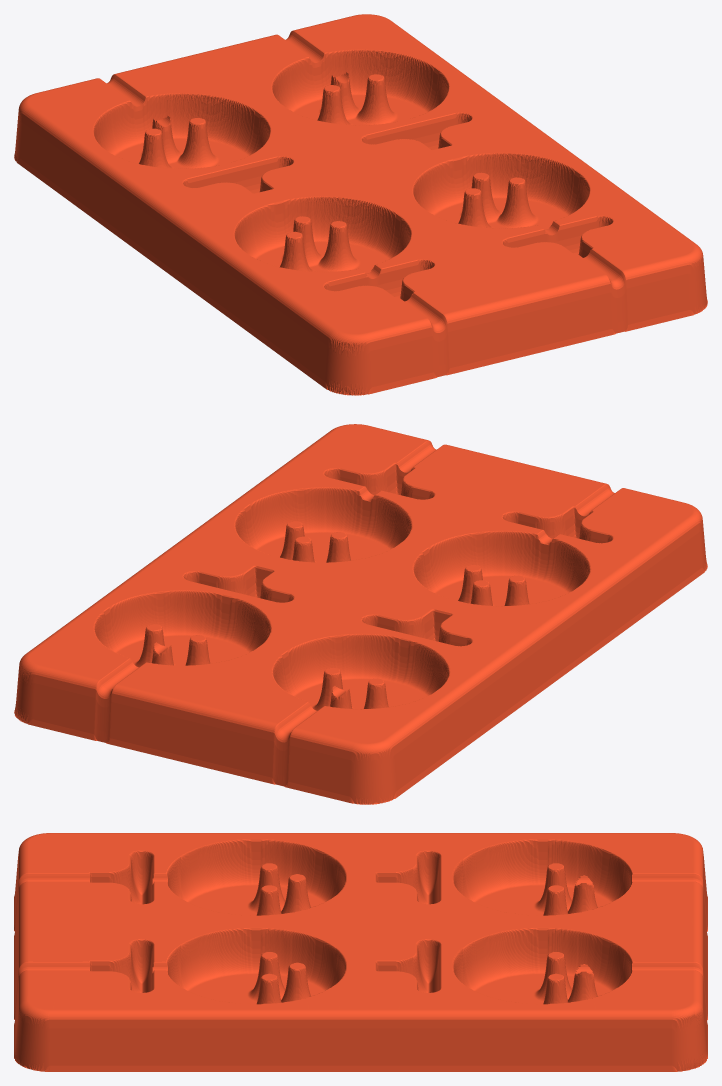
The model's file is mold.glb.
3 views of the same model, one above another, from view 1: azimuth 30°, elevation 25°; view 2: azimuth 150°, elevation 25°; view 3: azimuth 270°, elevation 25° (orthographic).
Parts seen in each view (by area): view 1: geometry_0; view 2: geometry_0; view 3: geometry_0.
Boxes of the visible parts, <box> form: geometry_0: <box>14,14,707,395</box>; geometry_0: <box>14,424,707,804</box>; geometry_0: <box>14,833,707,1071</box>.
Size of the model in its own units: 0.1112 by 0.0155 by 0.1735.
